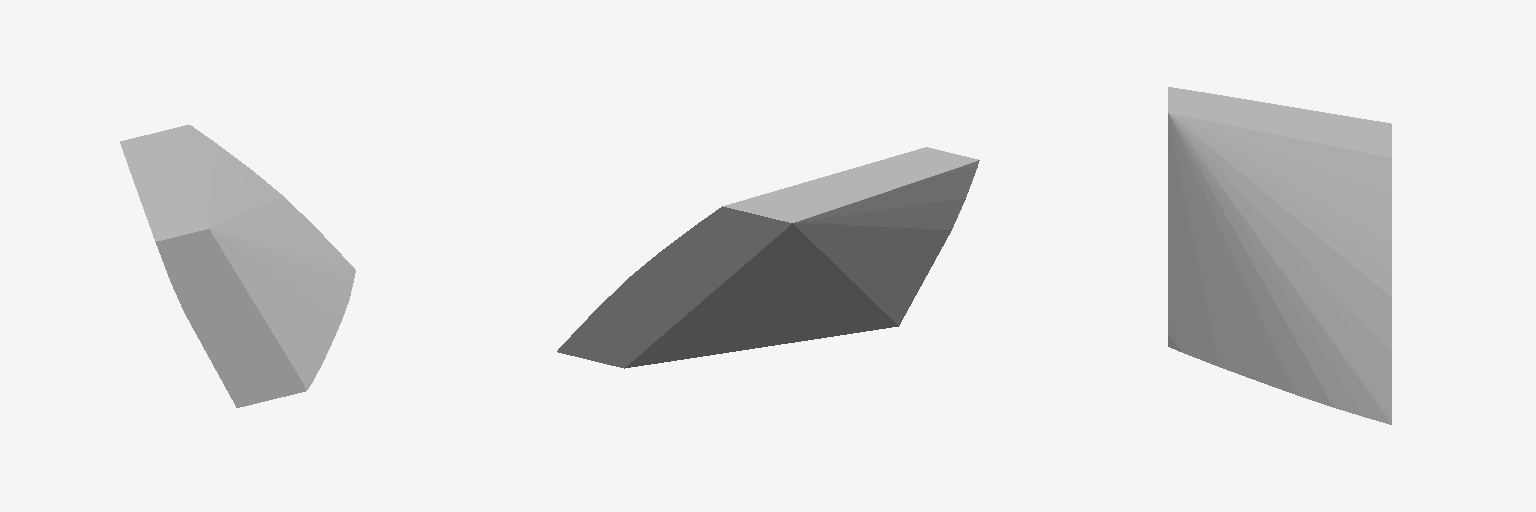
The model's file is phantom-elastrat_collision_341.obj.
3 renders of one model, left to right at view 1: azimuth 30°, elevation 25°; view 2: azimuth 150°, elevation 25°; view 3: azimuth 270°, elevation 25°, orthographic.
Bounding box in the file's own units: 0.0108 × 0.0062 × 0.0067.